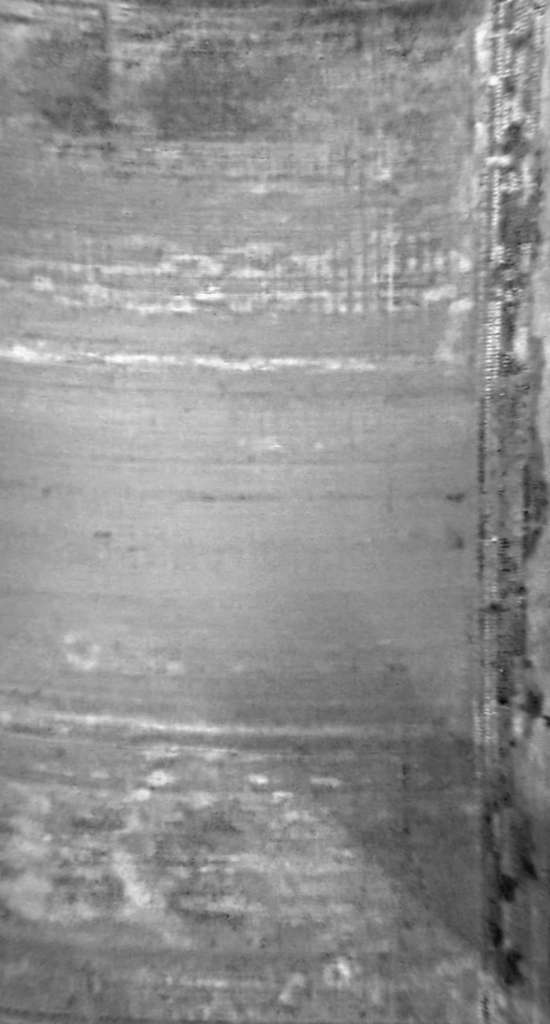splice: (479, 3, 546, 1024)
